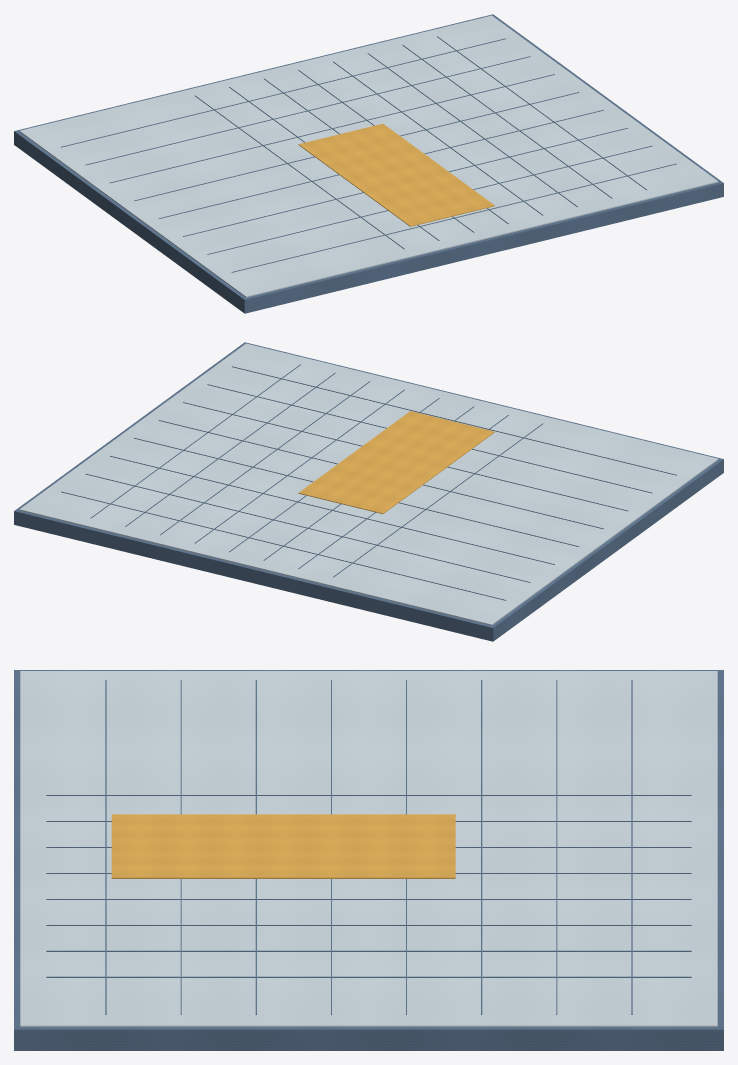
File: atlas100-s052-a07.lod1.glb
The picture shows the model from 3 angles, top to bottom: view 1: azimuth 30°, elevation 25°; view 2: azimuth 150°, elevation 25°; view 3: azimuth 270°, elevation 25°; orthographic projection. The views are drawn at different scales.
Visible parts, largest first — view 1: atlas100-s052-a07:part-001, atlas100-s052-a07:part-000, atlas100-s052-a07:part-021, atlas100-s052-a07:part-014, atlas100-s052-a07:part-020, atlas100-s052-a07:part-015, atlas100-s052-a07:part-013, atlas100-s052-a07:part-016, atlas100-s052-a07:part-018, atlas100-s052-a07:part-019, atlas100-s052-a07:part-017; view 2: atlas100-s052-a07:part-001, atlas100-s052-a07:part-000, atlas100-s052-a07:part-021, atlas100-s052-a07:part-013, atlas100-s052-a07:part-015, atlas100-s052-a07:part-014, atlas100-s052-a07:part-020, atlas100-s052-a07:part-017, atlas100-s052-a07:part-019, atlas100-s052-a07:part-018, atlas100-s052-a07:part-016; view 3: atlas100-s052-a07:part-001, atlas100-s052-a07:part-000, atlas100-s052-a07:part-021, atlas100-s052-a07:part-011, atlas100-s052-a07:part-012, atlas100-s052-a07:part-013, atlas100-s052-a07:part-014, atlas100-s052-a07:part-015, atlas100-s052-a07:part-020, atlas100-s052-a07:part-010, atlas100-s052-a07:part-009, atlas100-s052-a07:part-005.
Part boxes in pixels (x1,y1,x2,y2): atlas100-s052-a07:part-001: (19, 15, 718, 297); atlas100-s052-a07:part-000: (14, 14, 723, 313); atlas100-s052-a07:part-021: (298, 123, 494, 226); atlas100-s052-a07:part-014: (85, 56, 530, 165); atlas100-s052-a07:part-020: (231, 163, 676, 272); atlas100-s052-a07:part-015: (110, 74, 554, 183); atlas100-s052-a07:part-013: (61, 38, 505, 147); atlas100-s052-a07:part-016: (134, 92, 579, 201); atlas100-s052-a07:part-018: (183, 127, 627, 236); atlas100-s052-a07:part-019: (207, 145, 652, 254); atlas100-s052-a07:part-017: (158, 110, 603, 218); atlas100-s052-a07:part-001: (19, 343, 718, 625); atlas100-s052-a07:part-000: (14, 342, 723, 641); atlas100-s052-a07:part-021: (298, 411, 494, 513); atlas100-s052-a07:part-013: (61, 491, 506, 600); atlas100-s052-a07:part-015: (110, 455, 554, 564); atlas100-s052-a07:part-014: (85, 473, 530, 582); atlas100-s052-a07:part-020: (232, 366, 676, 475); atlas100-s052-a07:part-017: (158, 420, 603, 529); atlas100-s052-a07:part-019: (207, 384, 652, 493); atlas100-s052-a07:part-018: (183, 402, 627, 511); atlas100-s052-a07:part-016: (134, 438, 579, 546); atlas100-s052-a07:part-001: (20, 671, 717, 1026); atlas100-s052-a07:part-000: (14, 670, 723, 1050); atlas100-s052-a07:part-021: (111, 814, 455, 878); atlas100-s052-a07:part-011: (46, 950, 691, 951); atlas100-s052-a07:part-012: (46, 976, 691, 977); atlas100-s052-a07:part-013: (631, 680, 632, 1014); atlas100-s052-a07:part-014: (556, 680, 557, 1014); atlas100-s052-a07:part-015: (481, 680, 482, 1014); atlas100-s052-a07:part-020: (105, 680, 106, 1014); atlas100-s052-a07:part-010: (46, 925, 691, 925); atlas100-s052-a07:part-009: (46, 899, 691, 899); atlas100-s052-a07:part-005: (46, 795, 691, 795).
Size of the model in its own units: 12.46 by 0.404 by 10.4.
3 materials, 3 textured.
